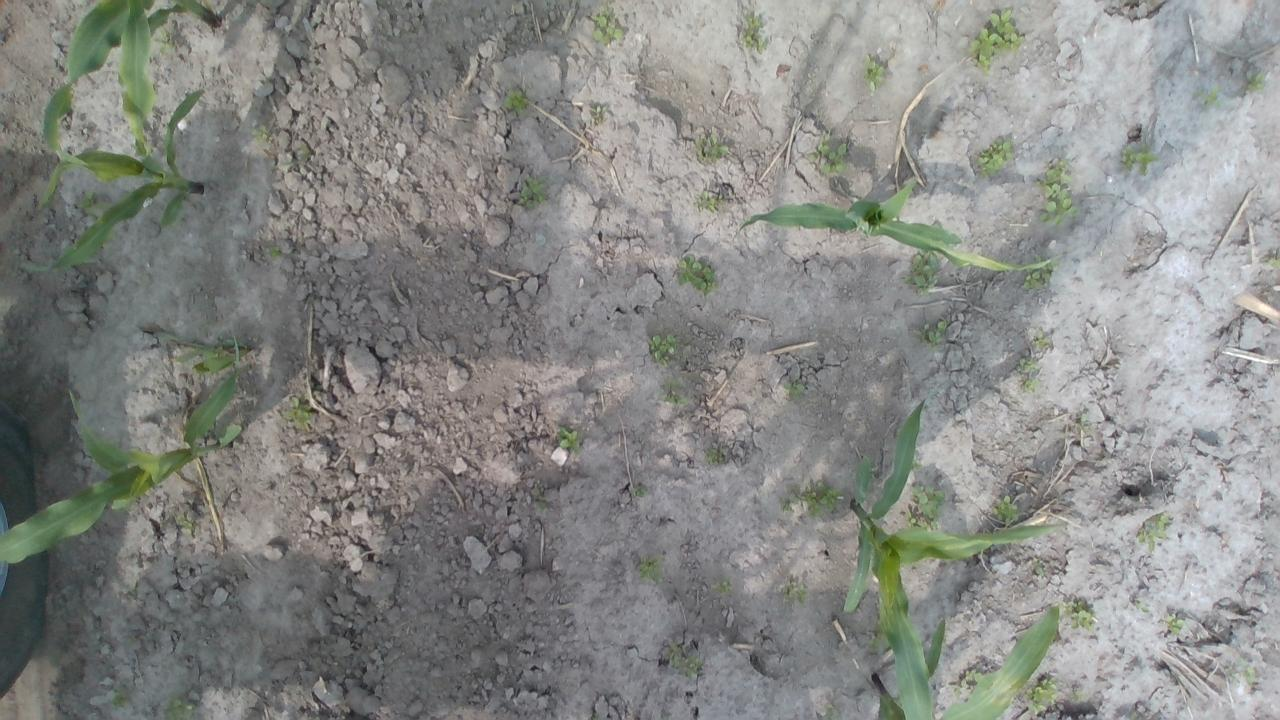Maize: (834, 399, 1078, 720), (0, 324, 248, 566), (15, 84, 209, 282), (736, 176, 1062, 278), (62, 0, 223, 161), (865, 608, 1062, 720)
Weeds: (972, 11, 1024, 70), (1018, 336, 1054, 394), (1046, 167, 1078, 221), (784, 487, 839, 516), (805, 140, 846, 176), (679, 256, 716, 293), (516, 174, 550, 212), (910, 485, 943, 523), (975, 141, 1013, 174), (1139, 510, 1172, 546), (588, 9, 624, 40), (666, 652, 706, 679), (910, 254, 939, 290), (1030, 680, 1057, 718), (739, 14, 766, 51), (281, 399, 314, 428), (1125, 144, 1158, 172), (866, 55, 890, 92), (646, 336, 677, 364), (698, 136, 729, 162), (1026, 265, 1056, 289), (920, 322, 946, 348), (660, 381, 684, 407), (158, 21, 178, 52), (164, 700, 196, 717), (1240, 74, 1270, 92), (996, 498, 1020, 520), (699, 190, 723, 212), (557, 428, 577, 452), (1074, 609, 1096, 629), (640, 556, 664, 574), (788, 582, 812, 600), (786, 378, 810, 395), (1237, 662, 1255, 684), (711, 579, 734, 596), (114, 686, 131, 708), (76, 191, 100, 206), (504, 90, 522, 110), (263, 245, 282, 260), (252, 124, 266, 144), (1199, 90, 1219, 103), (708, 450, 728, 463), (1136, 598, 1152, 614), (1166, 614, 1182, 630), (1268, 256, 1280, 270)
